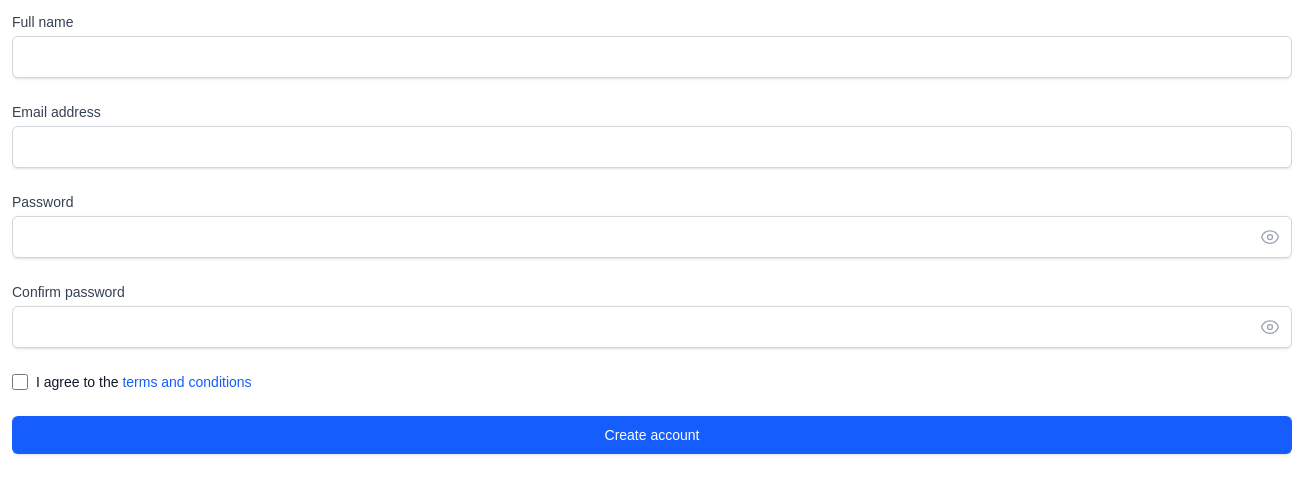
Test: RegisterForm › should show password strength indicator
// Type weak password
Type "weak" into the password field labelled "Password" at (652, 237), box top-left (12, 216), bottom-right (1292, 258)
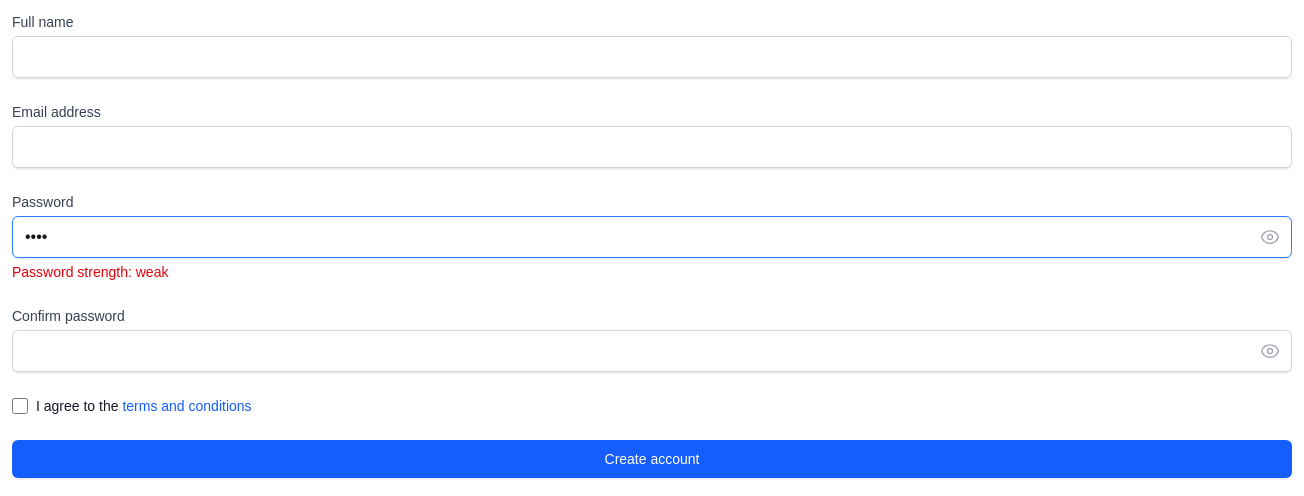
Expected: the text "Password strength: weak" is shown, top-left (12, 264), bottom-right (168, 280)
// Type strong password
Type "StrongPassword123!" into the password field labelled "Password" at (652, 237), box top-left (12, 216), bottom-right (1292, 258)
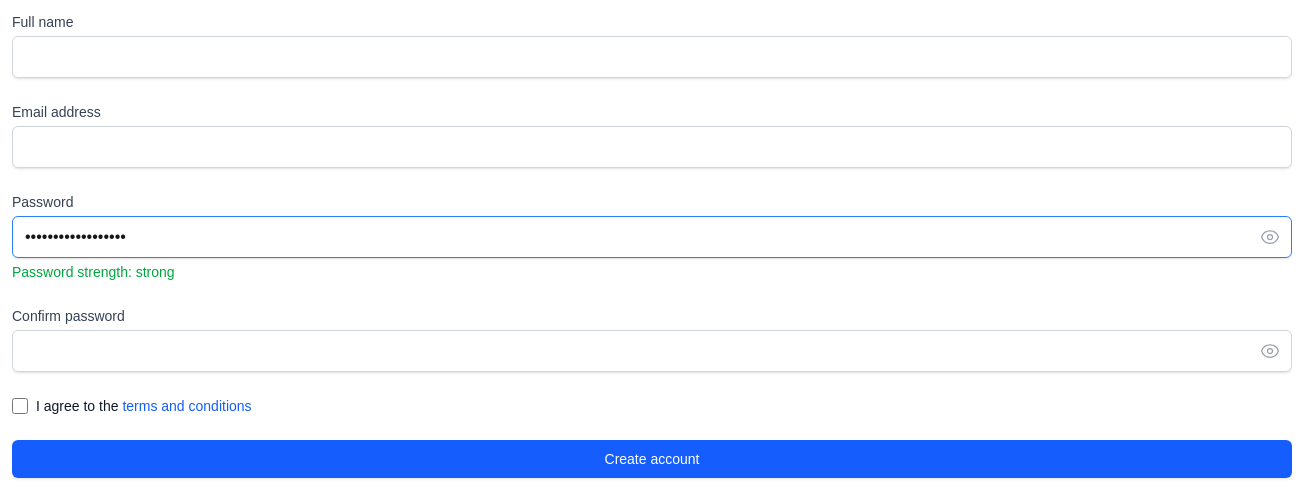
Expected: the text "Password strength: strong" is shown, top-left (12, 264), bottom-right (175, 280)
